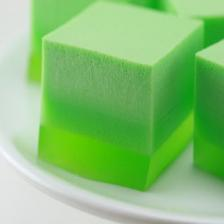green: (39, 2, 204, 190), (28, 0, 94, 81), (194, 39, 224, 178), (171, 0, 224, 47)
